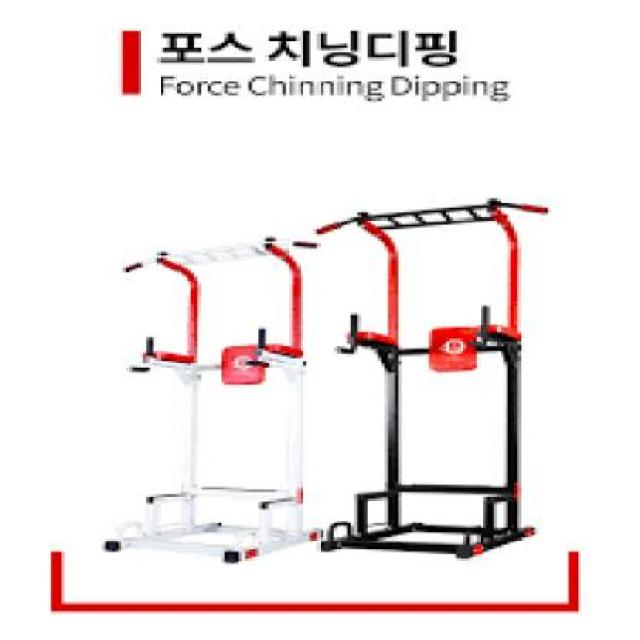chinning dipping: (319, 197, 546, 560), (100, 230, 323, 562)
